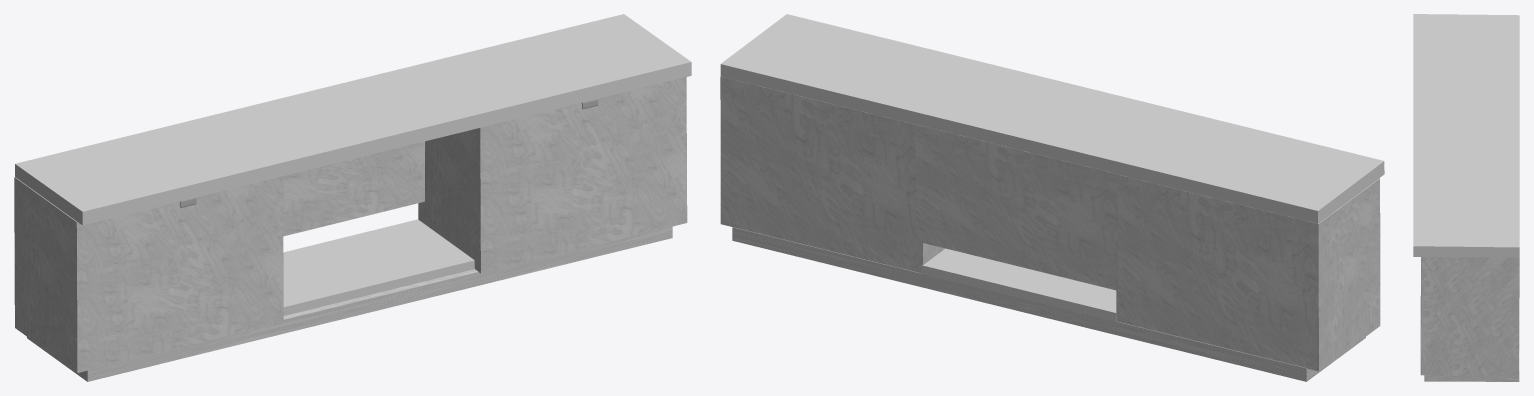
File: stand.fbx
3 renders of one model, left to right at view 1: azimuth 30°, elevation 25°; view 2: azimuth 150°, elevation 25°; view 3: azimuth 270°, elevation 25°, orthographic. The views are drawn at different scales.
Visible parts, largest first — view 1: stand; view 2: stand; view 3: stand.
Boxes of the visible parts, x1=… form: stand: x1=14, y1=14, x2=691, y2=381; stand: x1=720, y1=14, x2=1384, y2=381; stand: x1=1413, y1=14, x2=1519, y2=381.
Size of the model in its own units: 203 by 57.32 by 39.13.
3 materials, 1 textured.
